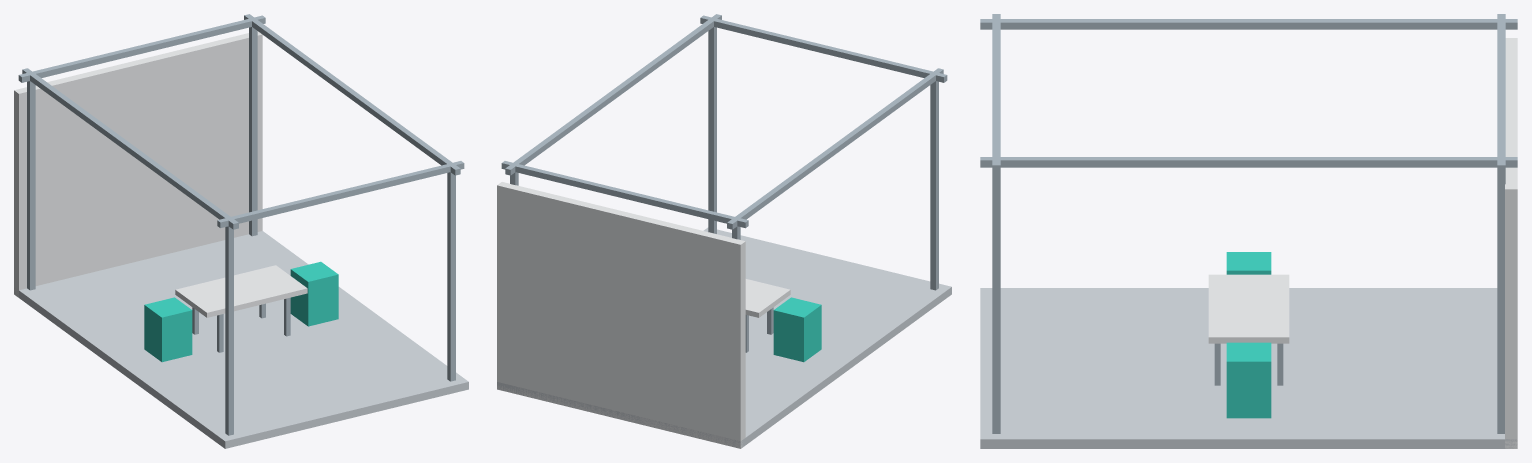
3 renders of one model, left to right at view 1: azimuth 30°, elevation 25°; view 2: azimuth 150°, elevation 25°; view 3: azimuth 270°, elevation 25°, orthographic. The views are drawn at different scales.
Visible parts, largest first — view 1: Exhibition Booth Concept; view 2: Exhibition Booth Concept; view 3: Exhibition Booth Concept.
Boxes of the visible parts, x1,y1,x2,y2 form: Exhibition Booth Concept: (14,14,468,448); Exhibition Booth Concept: (497,14,951,448); Exhibition Booth Concept: (980,14,1517,448).
Bounding box in the file's own units: 4 × 3.49 × 6.
